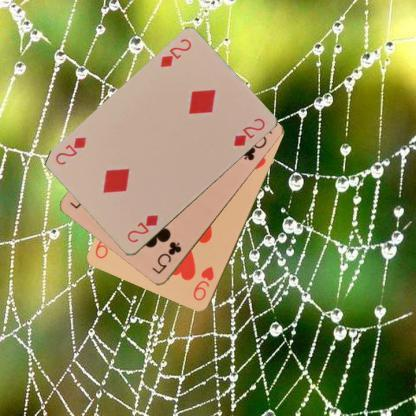2d: (124, 212, 160, 244), (158, 36, 192, 69)
5c: (149, 239, 183, 276)
9h: (190, 264, 216, 303)
